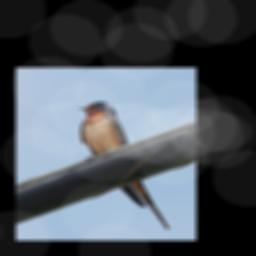Swallow: (78, 100, 170, 230)
